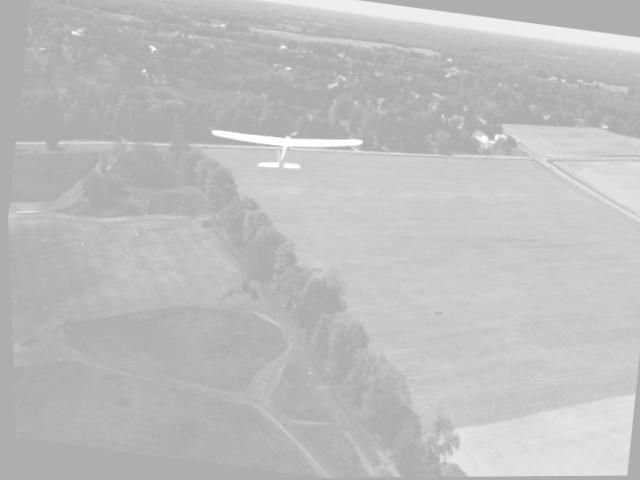hedef: (193, 108, 374, 199)
